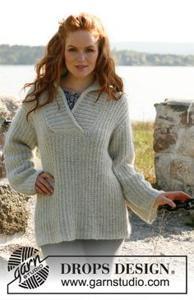C_cardigan sweater: (5, 73, 166, 245)
